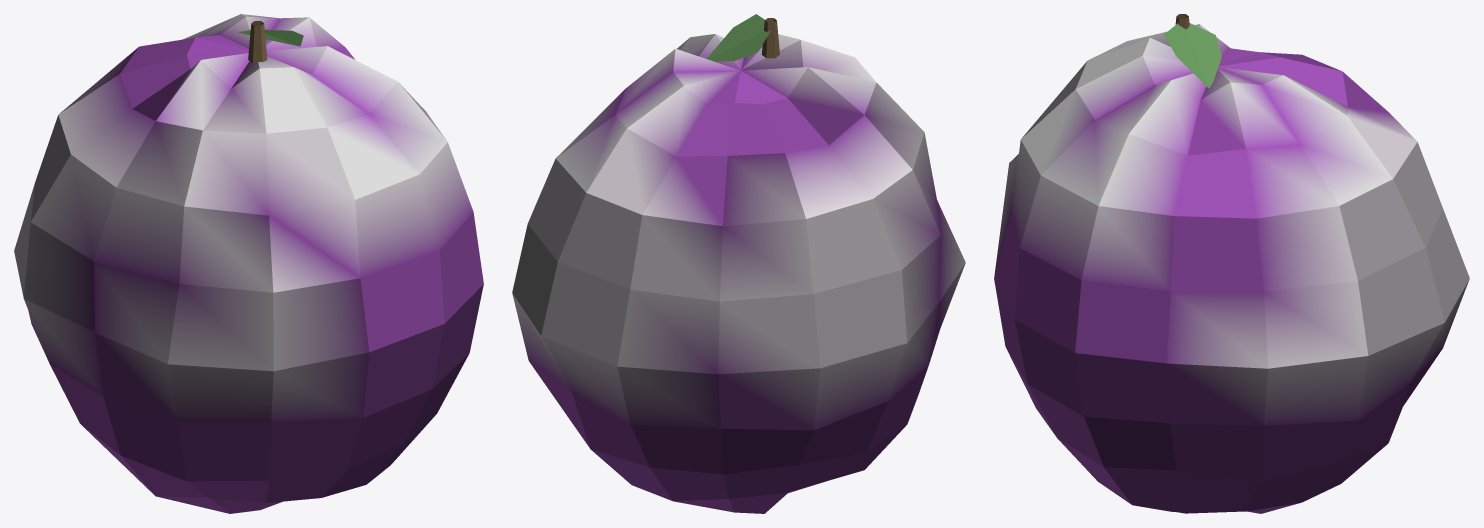
Rendered from Sugar_Plum_Cut.glb.
3 renders of one model, left to right at view 1: azimuth 30°, elevation 25°; view 2: azimuth 150°, elevation 25°; view 3: azimuth 270°, elevation 25°, orthographic. The views are drawn at different scales.
Visible parts, largest first — view 1: Sugar_Plum_I; view 2: Sugar_Plum_I; view 3: Sugar_Plum_I.
Part boxes in pixels (bbox=[...]): Sugar_Plum_I: bbox=[14, 14, 483, 513]; Sugar_Plum_I: bbox=[512, 14, 965, 513]; Sugar_Plum_I: bbox=[994, 14, 1469, 513].
Bounding box in the file's own units: 0.5648 × 0.6749 × 0.6063.
